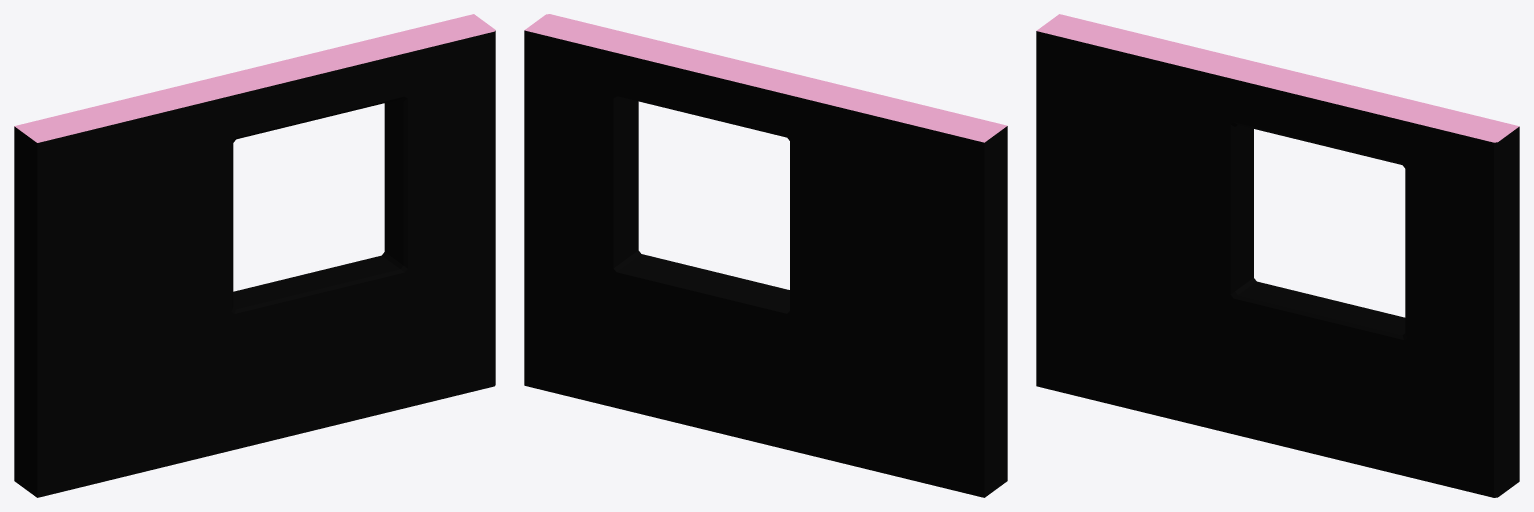
File: Wall_North_Base_Fixed.fbx
The picture shows the model from 3 angles, left to right: view 1: azimuth 30°, elevation 25°; view 2: azimuth 150°, elevation 25°; view 3: azimuth 330°, elevation 25°; orthographic projection.
Parts seen in each view (by area): view 1: Wall_Base_Fixed_2; view 2: Wall_Base_Fixed_2; view 3: Wall_Base_Fixed_2.
Boxes of the visible parts, bbox=[...] form: Wall_Base_Fixed_2: bbox=[14, 14, 495, 497]; Wall_Base_Fixed_2: bbox=[524, 14, 1007, 497]; Wall_Base_Fixed_2: bbox=[1036, 14, 1519, 497].
Size of the model in its own units: 100 by 73.75 by 8.73.
